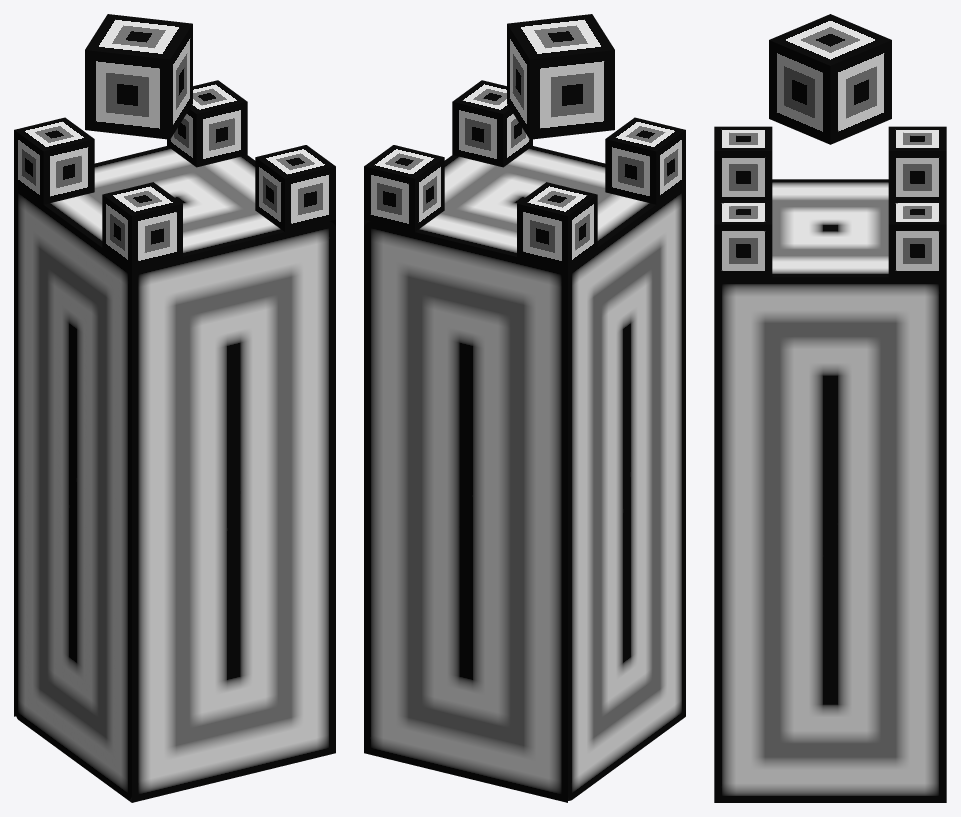
The model's file is Neutral Tower.fbx.
3 views of the same model, side by side, from view 1: azimuth 30°, elevation 25°; view 2: azimuth 150°, elevation 25°; view 3: azimuth 270°, elevation 25° (orthographic).
Visible parts, largest first — view 1: Base, Rift, SW Corner, SE Corner, NE Corner, NW Corner; view 2: Base, Rift, SW Corner, SE Corner, NW Corner, NE Corner; view 3: Base, Rift, NE Corner, NW Corner, SW Corner, SE Corner.
Boxes of the visible parts, x1=… form: Base: x1=14, y1=146, x2=335, y2=802; Rift: x1=85, y1=14, x2=192, y2=139; SW Corner: x1=14, y1=117, x2=94, y2=204; SE Corner: x1=102, y1=182, x2=182, y2=269; NE Corner: x1=255, y1=145, x2=335, y2=231; NW Corner: x1=167, y1=80, x2=247, y2=167; Base: x1=364, y1=146, x2=685, y2=802; Rift: x1=507, y1=14, x2=614, y2=139; SW Corner: x1=517, y1=182, x2=597, y2=269; SE Corner: x1=605, y1=117, x2=685, y2=204; NW Corner: x1=364, y1=145, x2=444, y2=231; NE Corner: x1=452, y1=80, x2=532, y2=167; Base: x1=714, y1=179, x2=946, y2=802; Rift: x1=769, y1=14, x2=891, y2=144; NE Corner: x1=714, y1=200, x2=772, y2=277; NW Corner: x1=888, y1=200, x2=946, y2=277; SW Corner: x1=888, y1=126, x2=946, y2=199; SE Corner: x1=714, y1=126, x2=772, y2=199.
Size of the model in its own units: 25 by 82.81 by 25.
Materials: 3 (3 with a texture image).
